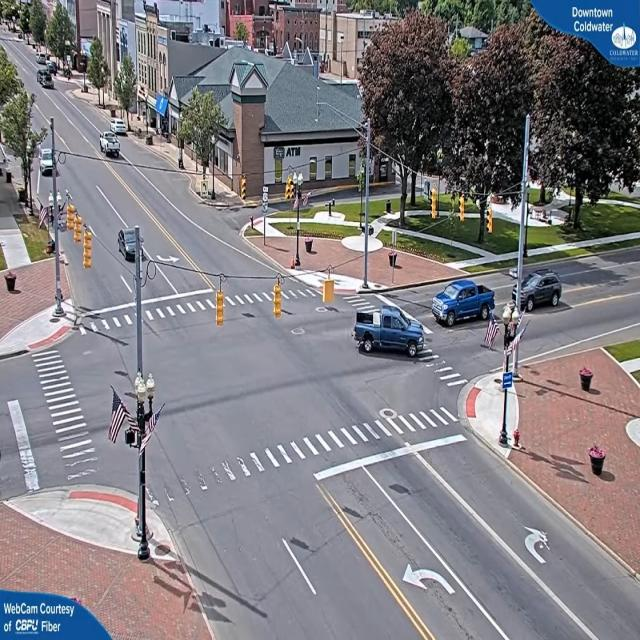car: (354, 300, 430, 359), (430, 278, 494, 326), (522, 271, 566, 314), (98, 133, 121, 157), (114, 121, 130, 137)
